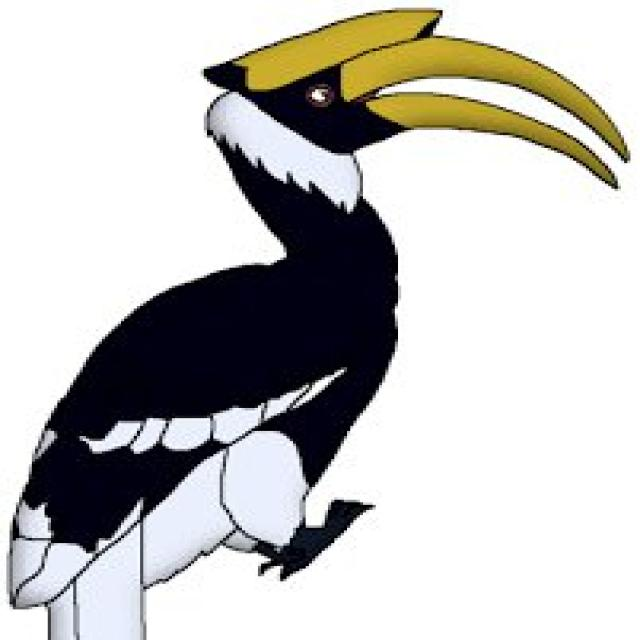Hornbill: (13, 15, 624, 640)
